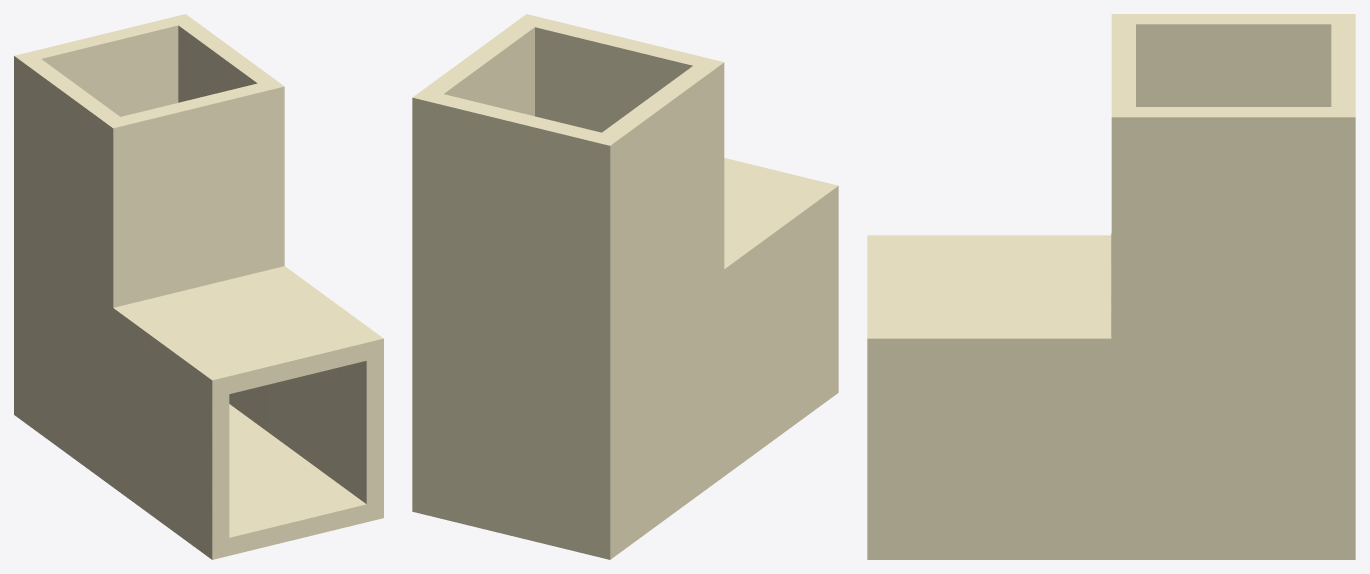
The model's file is tubing part 2.fbx.
3 views of the same model, side by side, from view 1: azimuth 30°, elevation 25°; view 2: azimuth 150°, elevation 25°; view 3: azimuth 270°, elevation 25° (orthographic). The views are drawn at different scales.
Visible parts, largest first — view 1: Cube.002; view 2: Cube.002; view 3: Cube.002.
Boxes of the visible parts, left/top/right/bottom form: Cube.002: left=14, top=14, right=383, bottom=559; Cube.002: left=412, top=14, right=838, bottom=559; Cube.002: left=867, top=14, right=1355, bottom=559.
Size of the model in its own units: 200 by 400 by 400.
